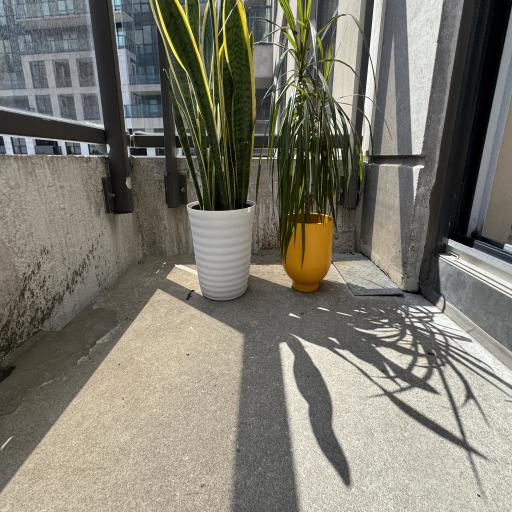Plant Pot: (184, 198, 256, 301), (279, 210, 334, 294)
